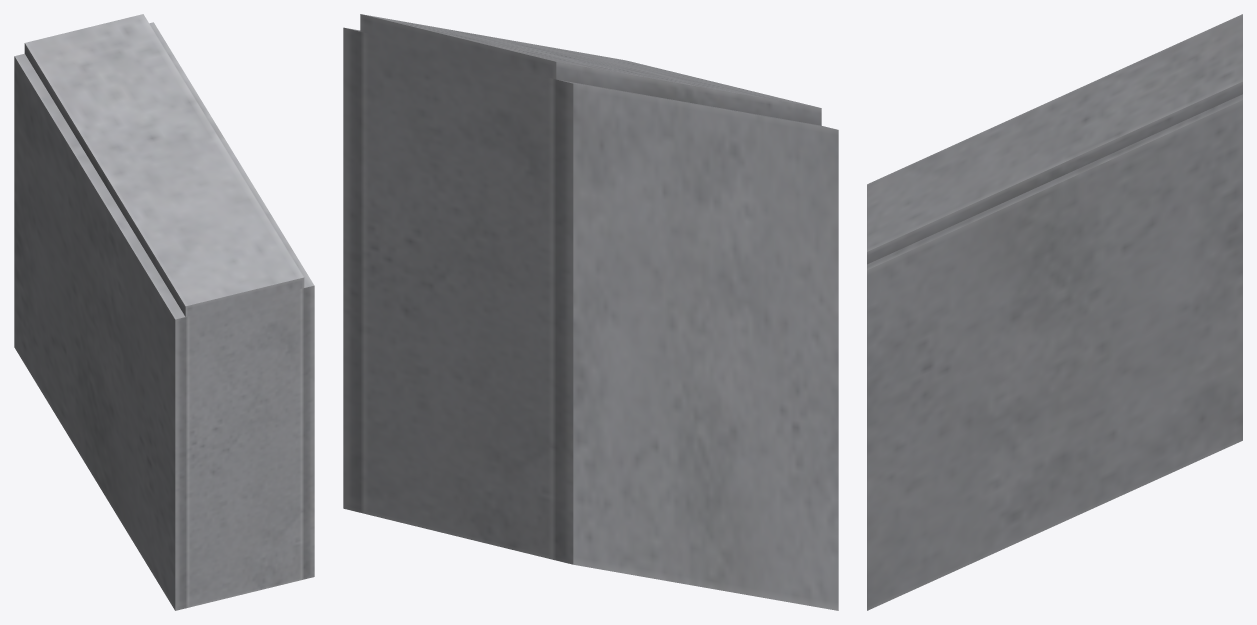
The model's file is set_curb_stairs_loop.fbx.
3 views of the same model, side by side, from view 1: azimuth 30°, elevation 25°; view 2: azimuth 150°, elevation 25°; view 3: azimuth 270°, elevation 25° (orthographic). The views are drawn at different scales.
Parts seen in each view (by area): view 1: set_curb_stairs_loop; view 2: set_curb_stairs_loop; view 3: set_curb_stairs_loop.
Boxes of the visible parts, bbox=[...] form: set_curb_stairs_loop: bbox=[14, 14, 314, 610]; set_curb_stairs_loop: bbox=[343, 14, 838, 610]; set_curb_stairs_loop: bbox=[867, 14, 1242, 610].
Size of the model in its own units: 30 by 92.21 by 60.
